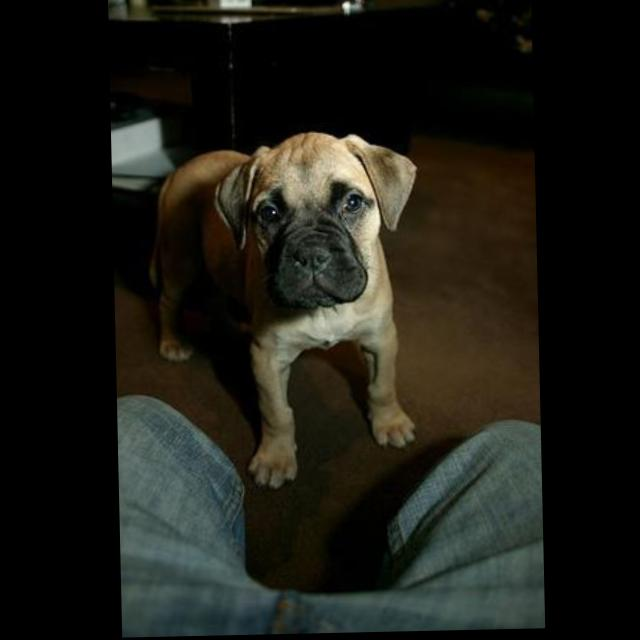bullmastiff: (147, 131, 426, 493)
